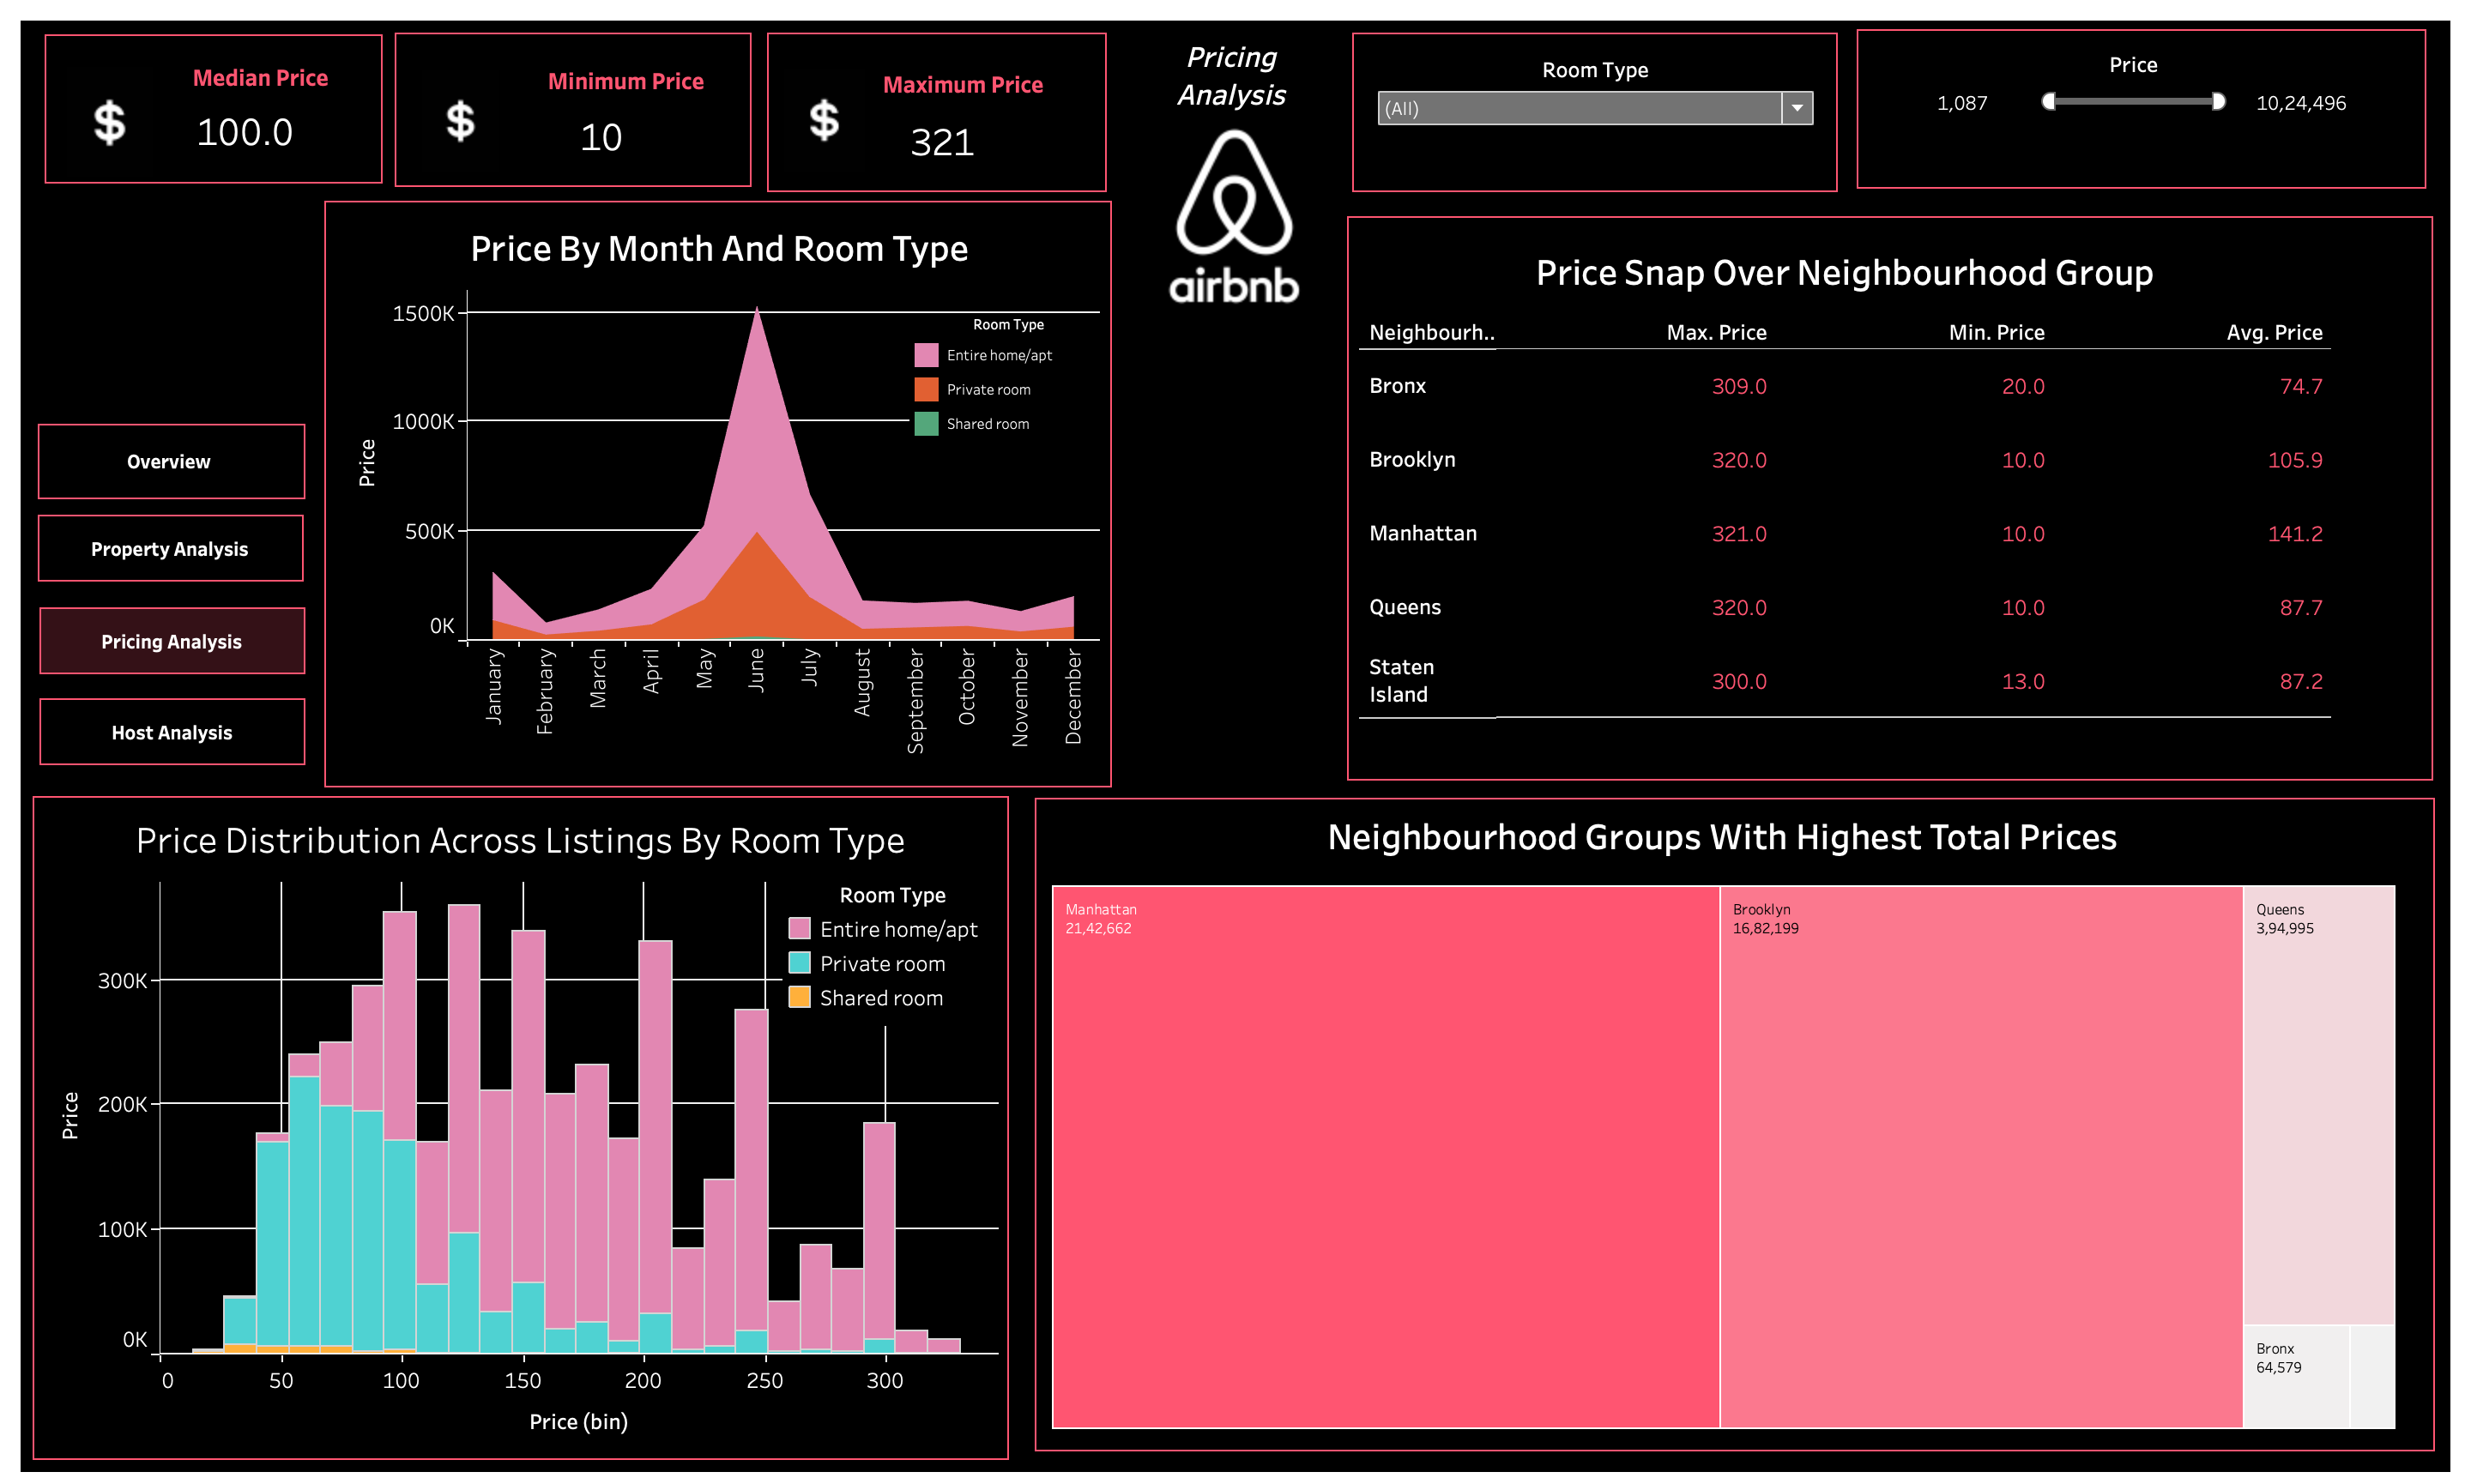

The dashboard page shown, as its layout file describes it:
{"tool":"tableau","page":{"name":"Pricing Analysis","canvas":[1000,1000],"units":"permille","ordinal":2},"visuals":[{"type":"text","box":[447.5,2.5,102.5,96.5]},{"type":"blank","box":[9.8,14.8,980.5,970.3]},{"type":"blank","box":[751.6,19.8,230.3,106.4]},{"type":"blank","box":[159.8,22.3,144.3,104]},{"type":"blank","box":[310.7,22.3,137.7,106.4]},{"type":"blank","box":[547.5,22.3,196.7,106.4]},{"type":"blank","box":[17.9,23.5,136.7,100.2]},{"type":"text","box":[158.2,26,190.2,55.7]},{"type":"text","box":[52.5,27.2,105.7,48.3]},{"type":"text","box":[333.6,28.5,113.1,54.5]},{"type":"filter","title":"Revenue By Month And Room Type","param":"[federated.0yh9is01orkwk617sb8m61in0q38].[sum:price:qk]","box":[765.6,33.4,196.7,75.5]},{"type":"filter","title":"Revenue By Month And Room Type","param":"[federated.0yh9is01orkwk617sb8m61in0q38].[none:Room Type (copy 2) (copy)_5462092","box":[555.7,37.1,180.3,81.7]},{"type":"image","param":"Image/dollar.jpeg","box":[317.2,39.6,32.8,82.9]},{"type":"image","param":"Image/dollar.jpeg","box":[26.2,44.6,36.9,74.3]},{"type":"image","param":"Image/dollar.jpeg","box":[166.4,47,39.3,68.1]},{"type":"worksheet","title":"Median Price ","mark":"Automatic","box":[65.6,70.5,79.5,49.5]},{"type":"worksheet","title":"Minimum Price","mark":"Automatic","box":[200.2,73,75.7,59.4]},{"type":"worksheet","title":"Maimum Price","mark":"Automatic","box":[341,76.7,82.8,45.8]},{"type":"image","param":"Image/190806-Airbnb-Logo-White.png","box":[449.2,80.5,100.8,132.4]},{"type":"blank","box":[131.2,134.9,318.9,393.6]},{"type":"worksheet","title":"Revenue By Month And Room Type","mark":"Area","rows":["price"],"cols":["last_review"],"box":[137.7,144.8,307.4,376.2]},{"type":"blank","box":[545.1,144.8,439.3,378.7]},{"type":"worksheet","title":"Price Snap Over Neighbourhood Group","mark":"Automatic","rows":["neighbourhood_group"],"box":[550,160.9,429.5,347.8]},{"type":"legend","title":"Revenue By Month And Room Type","param":"[federated.0yh9is01orkwk617sb8m61in0q38].[none:Room Type (copy 2) (copy)_5462092","box":[368,210.4,80.3,107.7]},{"type":"dashboard-object","box":[15.5,283.4,108.2,50.7]},{"type":"dashboard-object","box":[15.5,345.3,107.4,44.6]},{"type":"dashboard-object","box":[16.3,407.2,107.4,44.6]},{"type":"dashboard-object","box":[16.3,467.8,107.4,44.6]},{"type":"blank","box":[13.1,533.4,395.1,444.3]},{"type":"blank","box":[418.9,534.6,566.4,438.1]},{"type":"worksheet","title":"Neighbourhood Groups With Highest Total Prices","mark":"Automatic","box":[422.9,539.6,551.6,422]},{"type":"worksheet","title":"Price Distribution Across Listings By Room Type","mark":"Automatic","rows":["price"],"cols":["Price (bin)"],"box":[17.2,540.8,386.9,428.2]},{"type":"legend","title":"Price Distribution Across Listings By Room Type","param":"[federated.0yh9is01orkwk617sb8m61in0q38].[none:room_type:nk]","box":[316.4,589.1,89.3,97.8]}]}

Visuals, with their boxes on the dashboard's canvas, which has no fixed pixel size, in thousandths of its width and height (x1, y1, x2, y2). These are canvas units, not pixel positions in the 2471x1484 screenshot, which may show the page scaled, cropped or inside an application window:
text: Rect(448, 2, 550, 99)
blank: Rect(10, 15, 990, 985)
blank: Rect(752, 20, 982, 126)
blank: Rect(160, 22, 304, 126)
blank: Rect(311, 22, 448, 129)
blank: Rect(548, 22, 744, 129)
blank: Rect(18, 24, 155, 124)
text: Rect(158, 26, 348, 82)
text: Rect(52, 27, 158, 76)
text: Rect(334, 28, 447, 83)
"Revenue By Month And Room Type" filter: Rect(766, 33, 962, 109)
"Revenue By Month And Room Type" filter: Rect(556, 37, 736, 119)
image: Rect(317, 40, 350, 122)
image: Rect(26, 45, 63, 119)
image: Rect(166, 47, 206, 115)
"Median Price " worksheet: Rect(66, 70, 145, 120)
"Minimum Price" worksheet: Rect(200, 73, 276, 132)
"Maimum Price" worksheet: Rect(341, 77, 424, 122)
image: Rect(449, 80, 550, 213)
blank: Rect(131, 135, 450, 528)
"Revenue By Month And Room Type" worksheet (Area marks): Rect(138, 145, 445, 521)
blank: Rect(545, 145, 984, 524)
"Price Snap Over Neighbourhood Group" worksheet: Rect(550, 161, 980, 509)
"Revenue By Month And Room Type" legend: Rect(368, 210, 448, 318)
dashboard-object: Rect(16, 283, 124, 334)
dashboard-object: Rect(16, 345, 123, 390)
dashboard-object: Rect(16, 407, 124, 452)
dashboard-object: Rect(16, 468, 124, 512)
blank: Rect(13, 533, 408, 978)
blank: Rect(419, 535, 985, 973)
"Neighbourhood Groups With Highest Total Prices" worksheet: Rect(423, 540, 974, 962)
"Price Distribution Across Listings By Room Type" worksheet: Rect(17, 541, 404, 969)
"Price Distribution Across Listings By Room Type" legend: Rect(316, 589, 406, 687)
